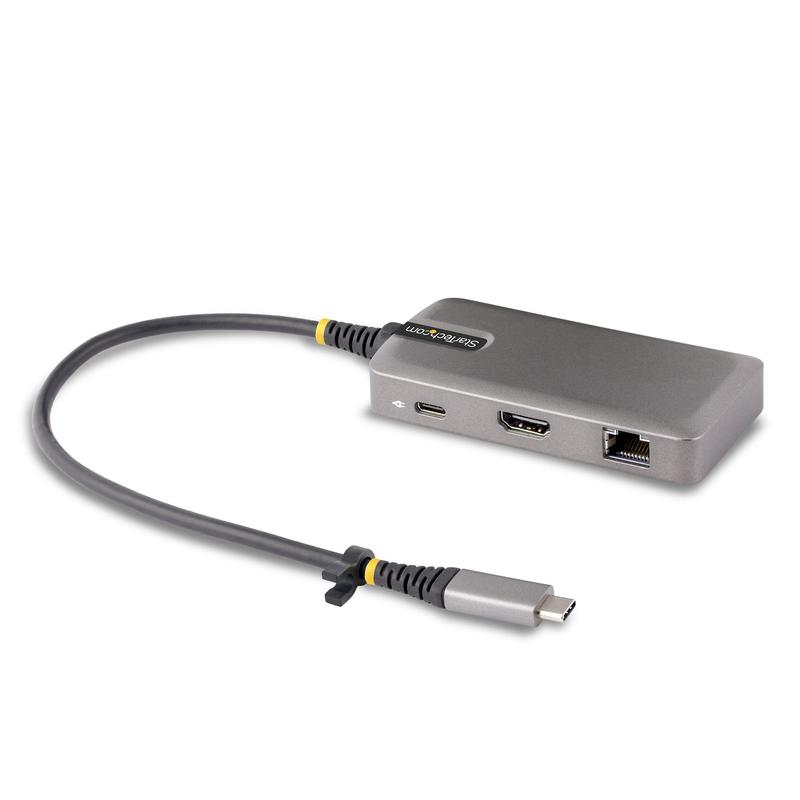ETHERNET: (592, 414, 661, 477)
USB: (483, 391, 563, 450)
USBC: (409, 393, 465, 439)
